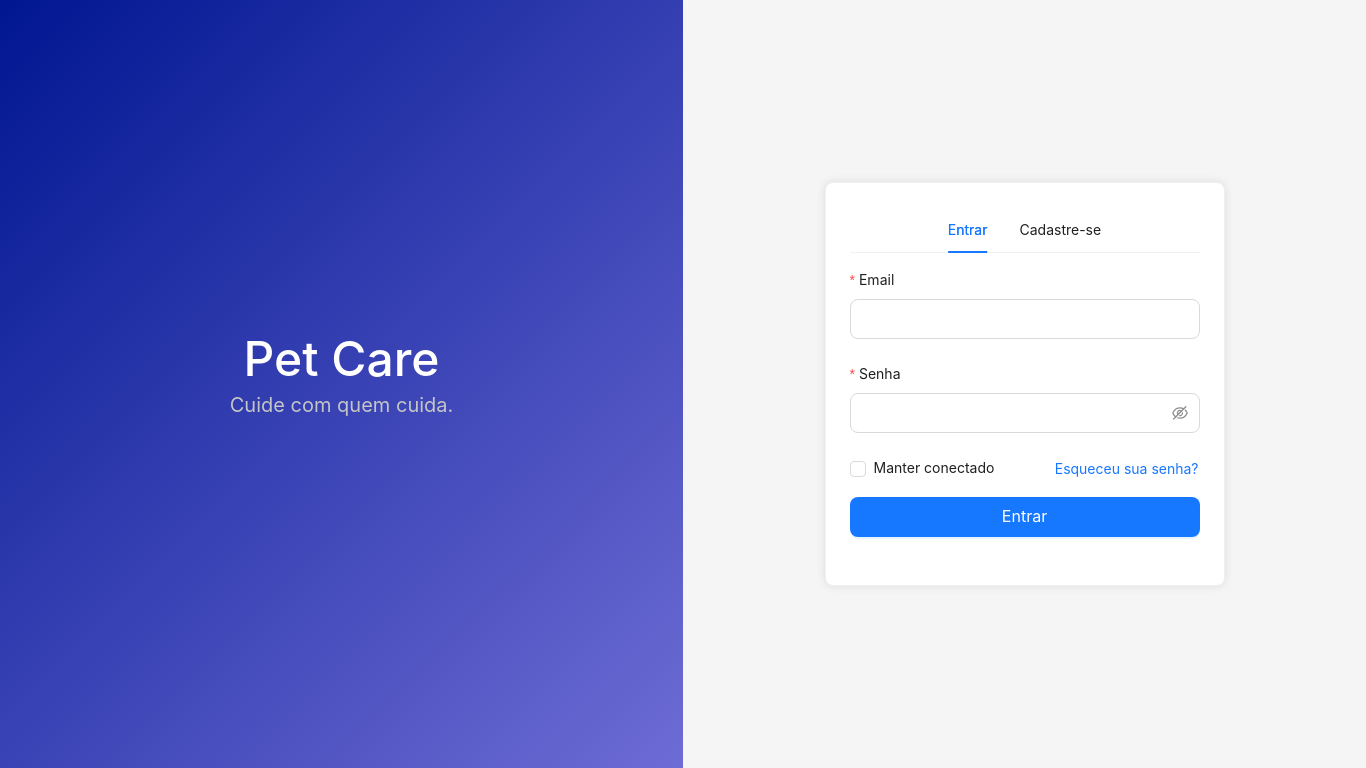
alterna para a aba de cadastro
Click the tab "Cadastre-se": point(1060, 230) [1020, 219, 1101, 241]
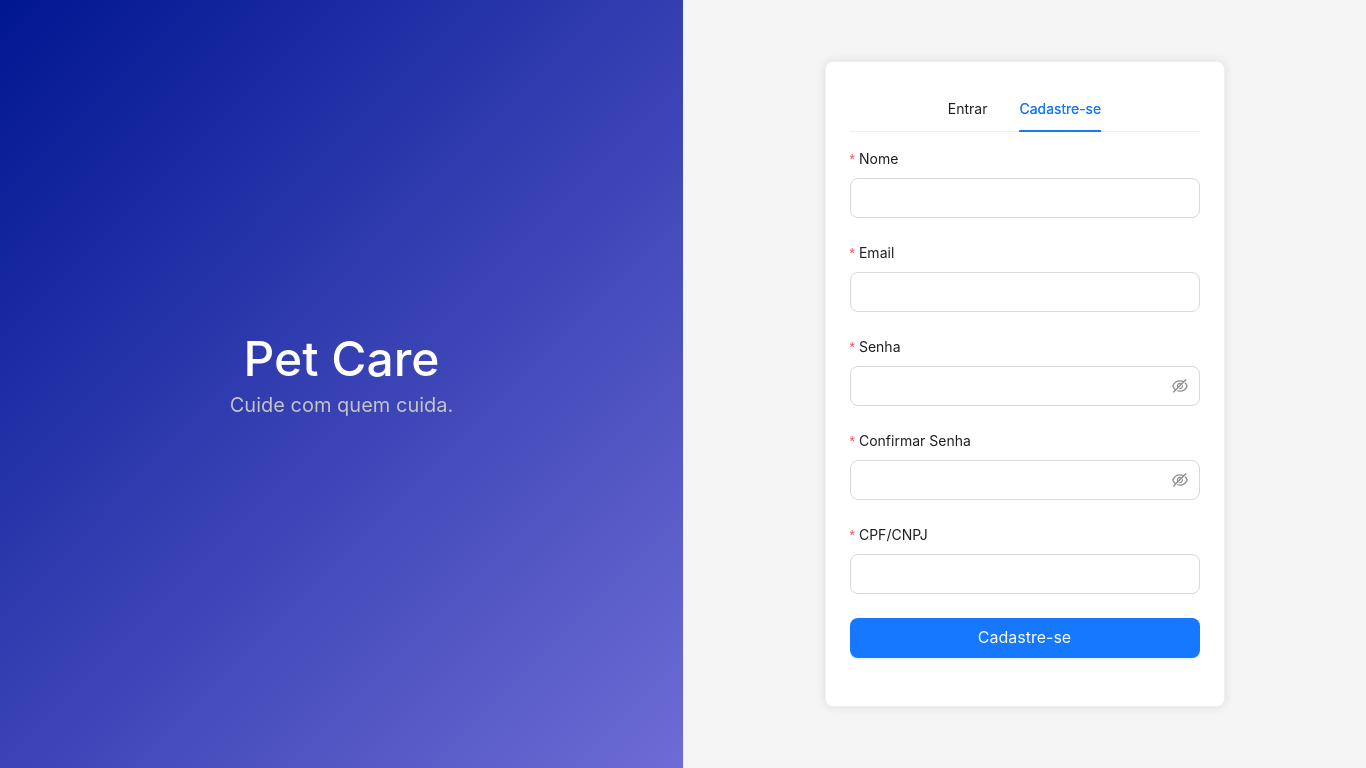
Check: the field labelled "Nome" is shown, box [850, 178, 1200, 218]
Check: the field labelled "CPF/CNPJ" is shown, box [850, 554, 1200, 594]
